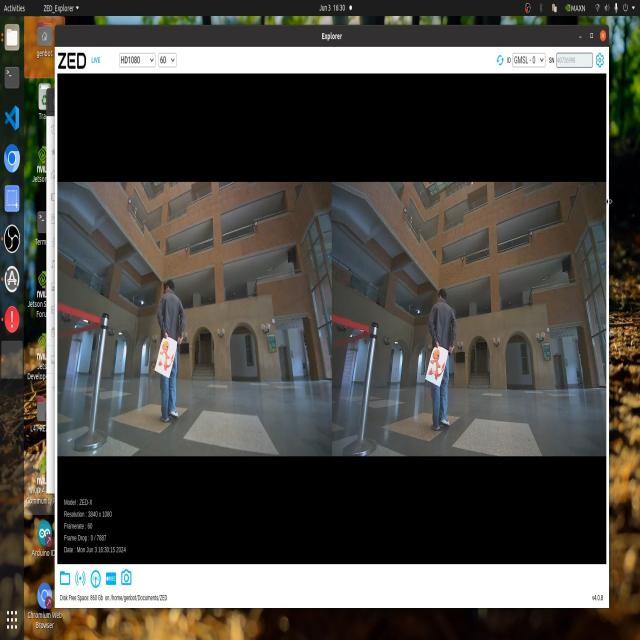red: (153, 332, 177, 379), (431, 348, 444, 389)
